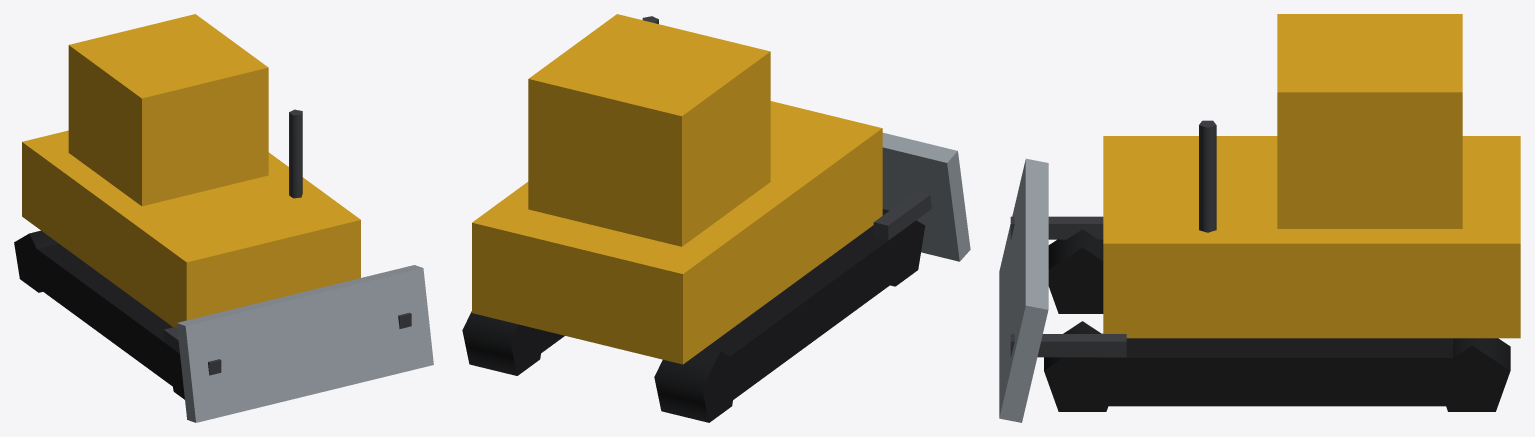
The model's file is veh_ground_bulldozer_a05_lod1.glb.
3 renders of one model, left to right at view 1: azimuth 30°, elevation 25°; view 2: azimuth 150°, elevation 25°; view 3: azimuth 270°, elevation 25°, orthographic. The views are drawn at different scales.
Visible parts, largest first — view 1: body, blade, track_r; view 2: body, track_r, blade, track_l; view 3: body, track_l, blade, track_r.
Boxes of the visible parts, x1,y1,x2,y2 form: body: [22, 14, 360, 327]; blade: [163, 265, 433, 422]; track_r: [14, 230, 184, 399]; body: [472, 14, 882, 364]; track_r: [654, 209, 925, 422]; blade: [873, 132, 970, 261]; track_l: [462, 311, 564, 375]; body: [1103, 14, 1520, 338]; track_l: [1044, 321, 1510, 411]; blade: [999, 158, 1126, 422]; track_r: [1048, 229, 1103, 313].
Bounding box in the file's own units: 3 × 2.83 × 4.5.
